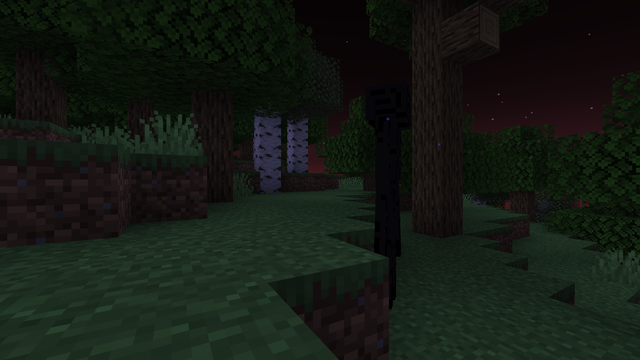endermens: (356, 70, 422, 318)
